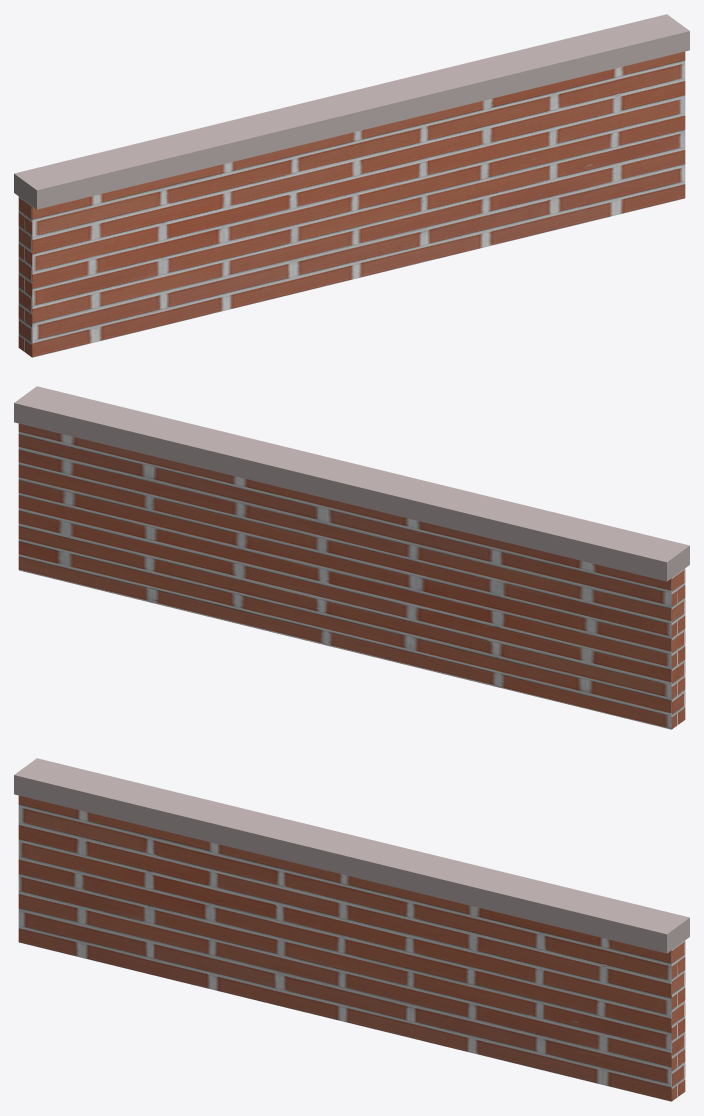
The model's file is wall.fbx.
3 renders of one model, top to bottom at view 1: azimuth 30°, elevation 25°; view 2: azimuth 150°, elevation 25°; view 3: azimuth 330°, elevation 25°, orthographic.
Visible parts, largest first — view 1: Cube; view 2: Cube; view 3: Cube.
Part boxes in pixels (x1=…): Cube: x1=14, y1=14, x2=689, y2=357; Cube: x1=14, y1=386, x2=689, y2=729; Cube: x1=14, y1=758, x2=689, y2=1101.
Bounding box in the file's own units: 800 × 200 × 48.8.
